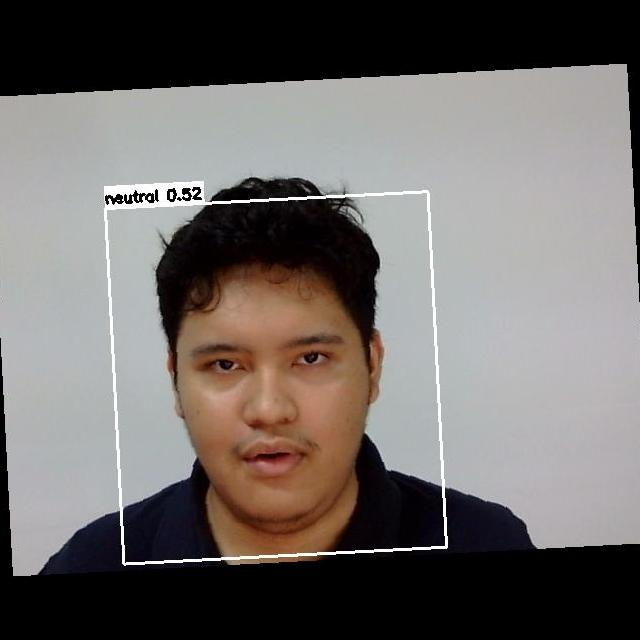Surprised: (172, 302, 363, 485)
